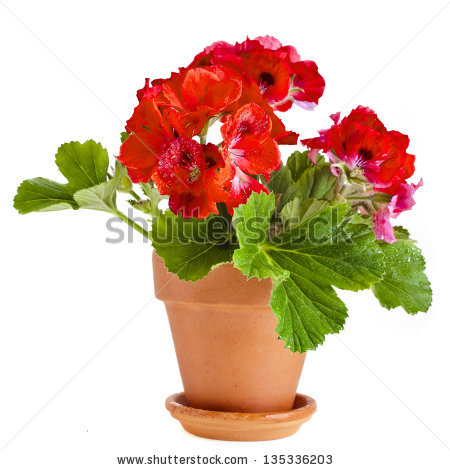flowerpot: (149, 249, 318, 441)
